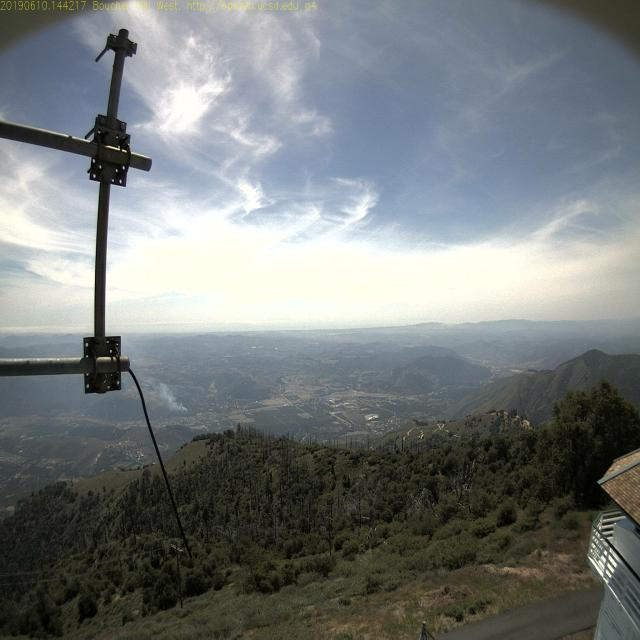smoke: (175, 395, 198, 423)
